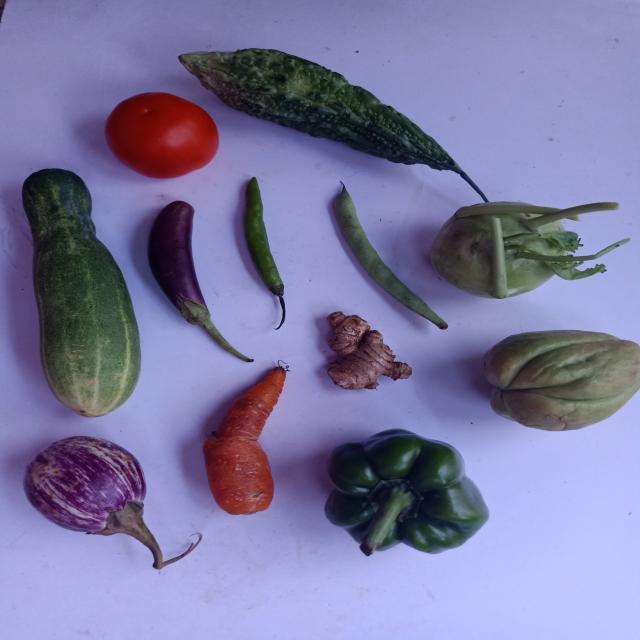Beans: (333, 184, 449, 329)
Bitter Gourd: (178, 48, 463, 173)
Brinjal: (147, 201, 252, 362), (147, 201, 215, 337)
Capsicum: (334, 429, 488, 560)
Carrot: (202, 367, 286, 515)
Chayote: (482, 330, 640, 431)
Cucumber: (21, 168, 140, 417)
Eggplant: (23, 437, 164, 570)
Ginger: (327, 312, 412, 390)
Green Chilly: (244, 177, 285, 329)
Tomato: (103, 92, 218, 178)
Turnip: (432, 201, 619, 298)
